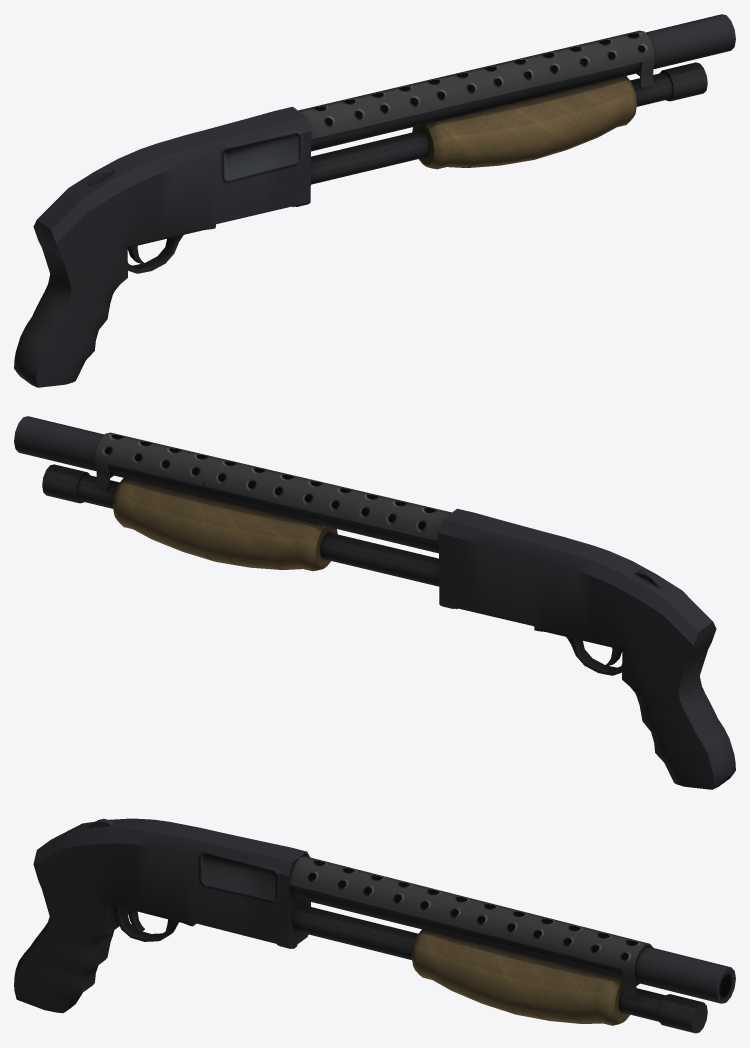
Rendered from shotgun_000036.obj.
The picture shows the model from 3 angles, top to bottom: view 1: azimuth 30°, elevation 25°; view 2: azimuth 150°, elevation 25°; view 3: azimuth 330°, elevation 25°; orthographic projection.
Visible parts, largest first — view 1: mesh_Cube.001; view 2: mesh_Cube.001; view 3: mesh_Cube.001.
Part boxes in pixels (x1,y1,x2,y2): mesh_Cube.001: [14, 14, 735, 387]; mesh_Cube.001: [14, 416, 735, 789]; mesh_Cube.001: [14, 818, 735, 1033].
Bounding box in the file's own units: 1.89 × 0.5335 × 0.1708.
1 material, 1 textured.
